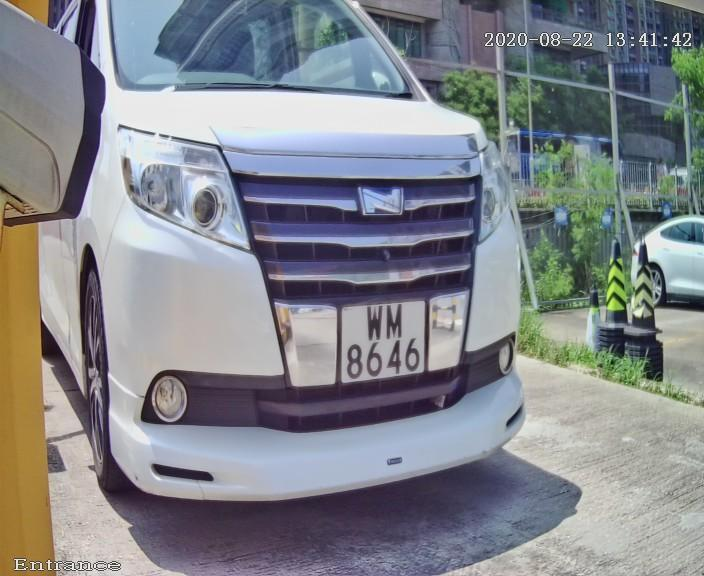Car: (32, 1, 554, 553)
License Plate: (299, 278, 459, 399)
